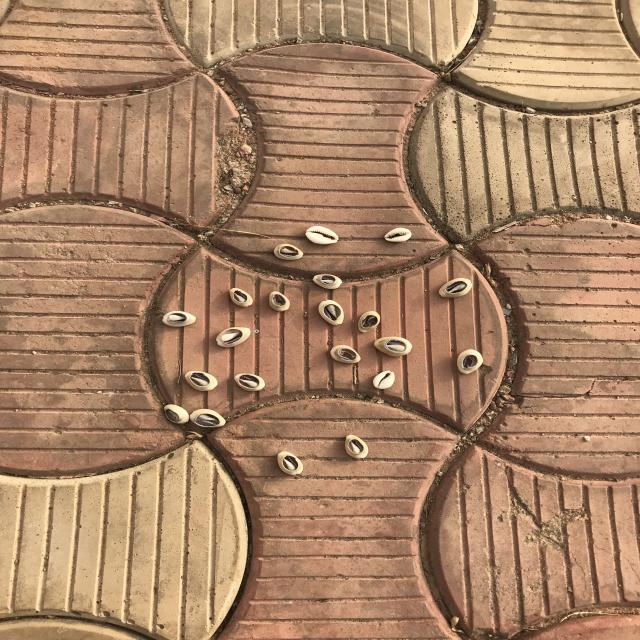facedown: (372, 335, 416, 358), (430, 277, 470, 301), (184, 368, 222, 393), (214, 324, 252, 348), (191, 406, 226, 432), (159, 309, 202, 330), (315, 299, 344, 329), (276, 450, 305, 478), (460, 346, 486, 377), (342, 433, 371, 459), (236, 371, 266, 395), (313, 272, 347, 292), (330, 344, 362, 364), (272, 243, 304, 263), (357, 309, 382, 333), (227, 286, 254, 308), (163, 402, 190, 422), (266, 292, 290, 312)
faceup: (304, 225, 340, 246), (369, 369, 396, 392), (383, 226, 414, 245)
